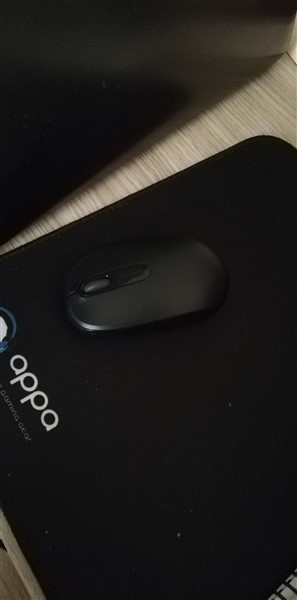mouse: (56, 228, 241, 342)
